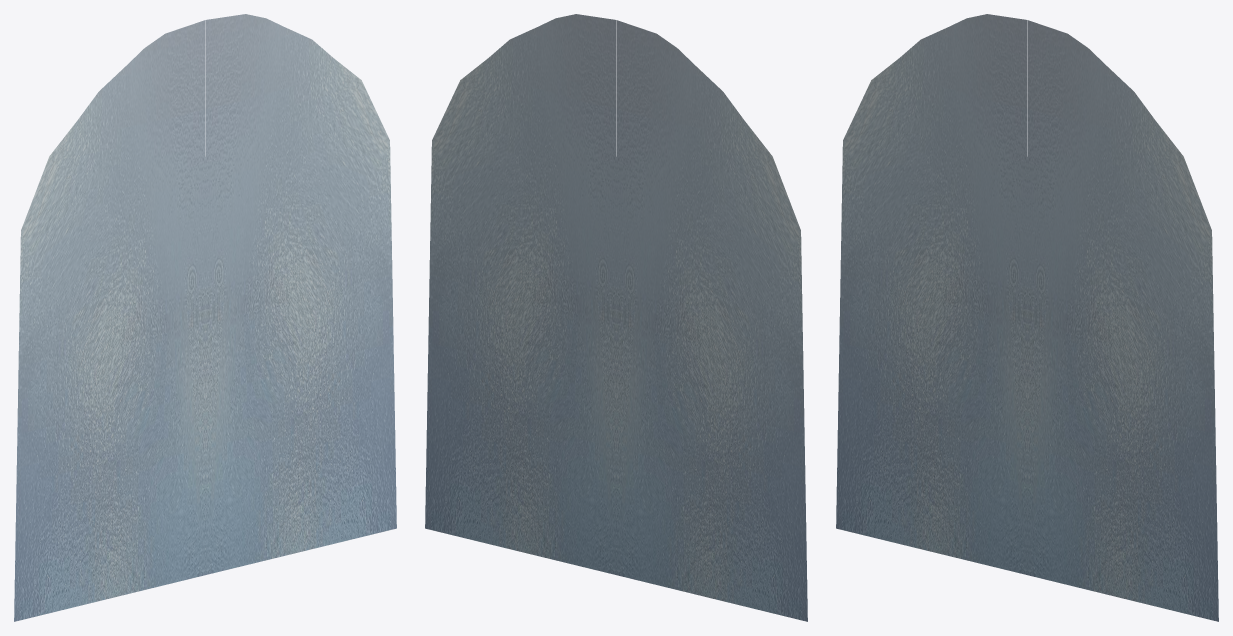
Rendered from Ventana.obj.
3 renders of one model, left to right at view 1: azimuth 30°, elevation 25°; view 2: azimuth 150°, elevation 25°; view 3: azimuth 330°, elevation 25°, orthographic.
Parts seen in each view (by area): view 1: polySurface6771; view 2: polySurface6771; view 3: polySurface6771.
Boxes of the visible parts, x1,y1,x2,y2 form: polySurface6771: (14,14,396,621); polySurface6771: (425,14,807,621); polySurface6771: (836,14,1218,621).
Size of the model in its own units: 0.8692 by 1.2 by 0.
1 material, 1 textured.
